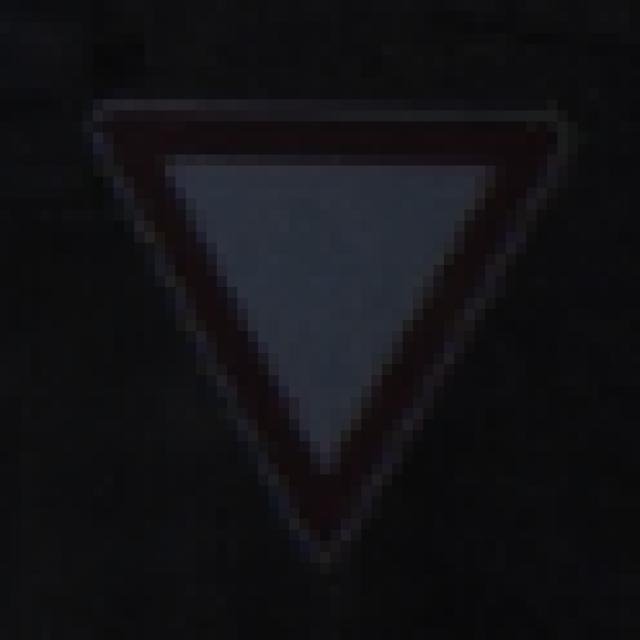Give Way: (53, 67, 590, 586)
